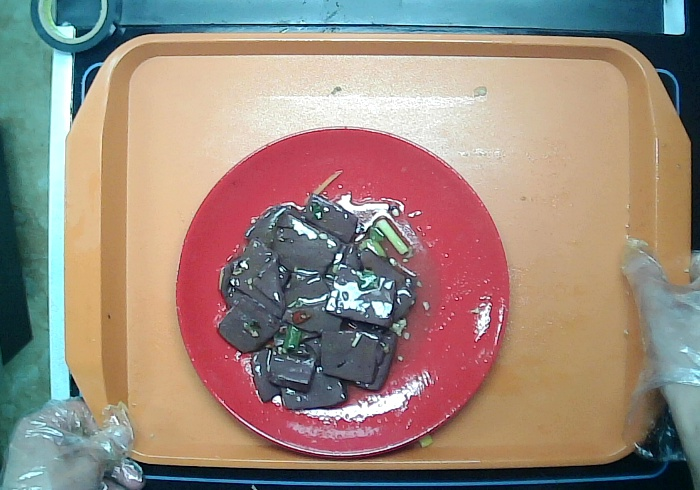HZYJPL-Hong_Se_Yuan_Pan: (172, 122, 511, 462)
